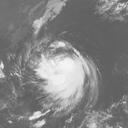cyclone: (34, 54, 98, 110)
